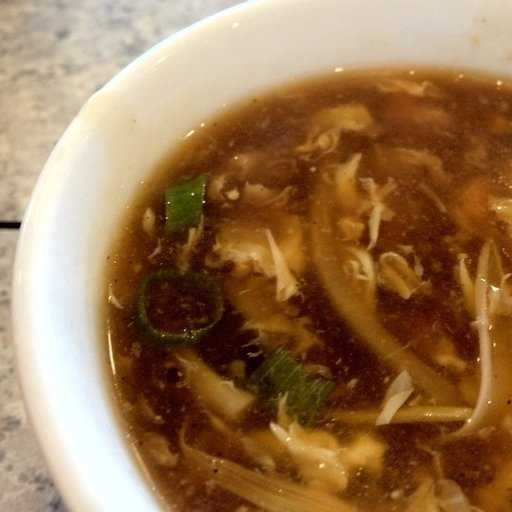soup: (50, 20, 505, 505)
